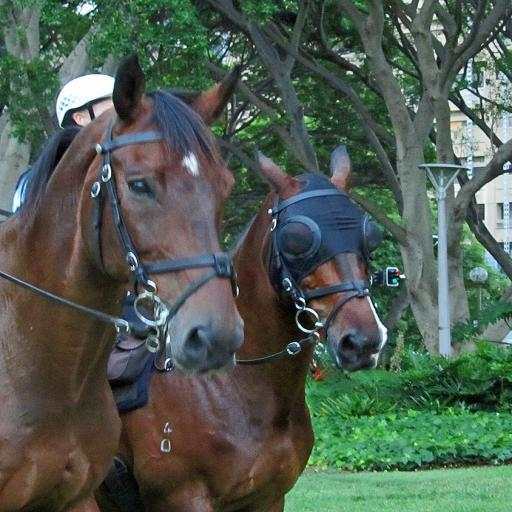horse: (0, 50, 248, 512), (96, 144, 390, 512)
